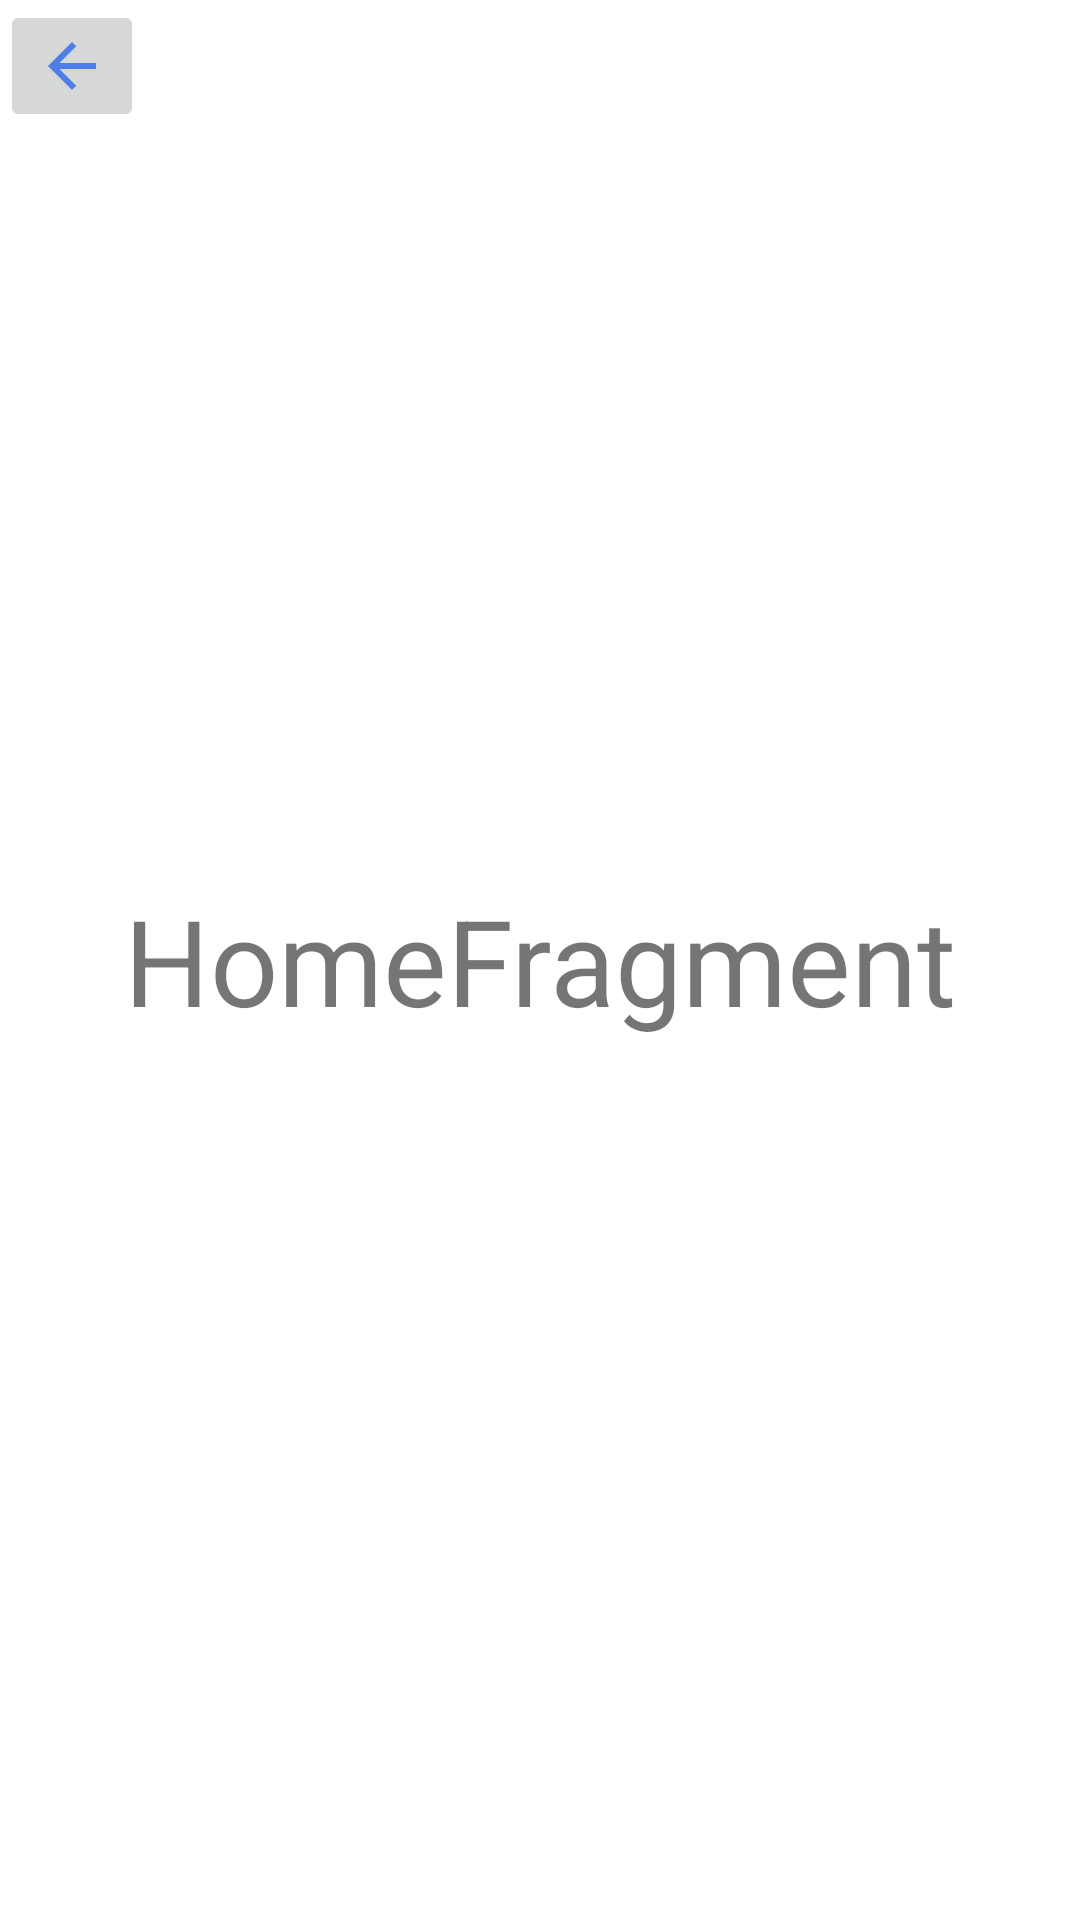

Where to tap for icons on this 1080×1920 app screen, as (x=x, y=y):
arrow back: (x=72, y=66)
